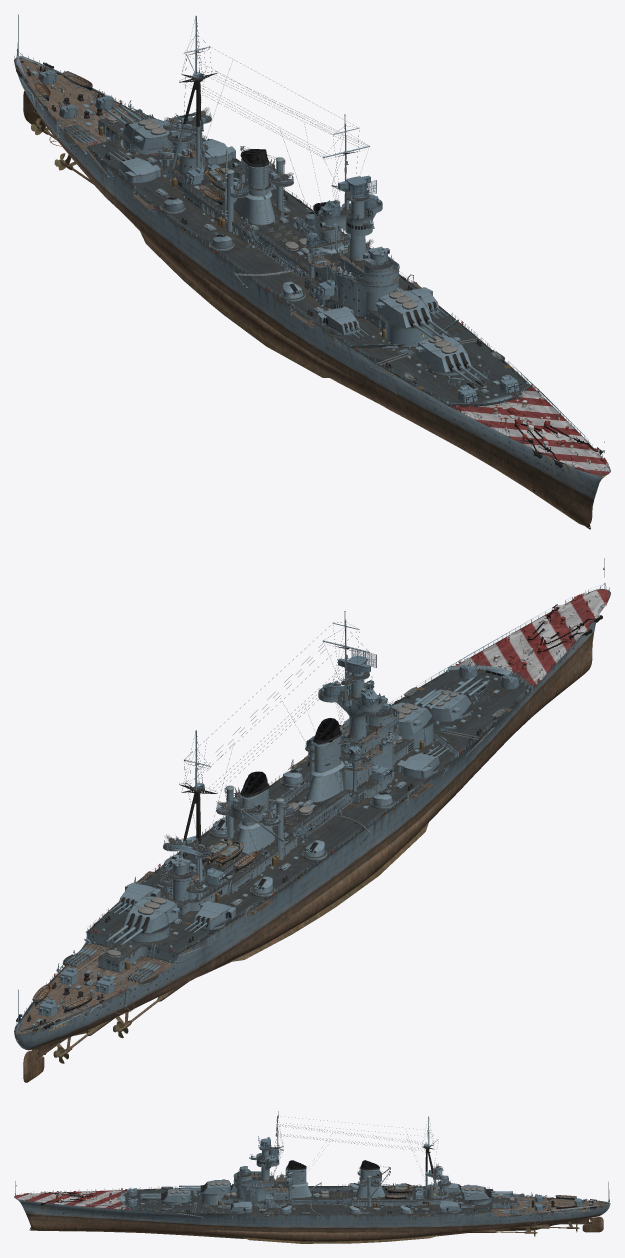
Rendered from napoli-maximum-compressed.glb.
3 views of the same model, one above another, from view 1: azimuth 30°, elevation 25°; view 2: azimuth 150°, elevation 25°; view 3: azimuth 270°, elevation 25° (orthographic). The views are drawn at different scales.
Parts seen in each view (by area): view 1: Object_71, Object_69, Object_67, Object_62, Object_61, Object_75, Object_88, Object_89, Object_72, Object_66, Object_73, Object_76 (+8 smaller); view 2: Object_71, Object_75, Object_69, Object_67, Object_62, Object_61, Object_88, Object_89, Object_66, Object_72, Object_73, Object_15 (+7 smaller); view 3: Object_71, Object_69, Object_75, Object_67, Object_62, Object_61, Object_88, Object_72, Object_89, Object_66, Object_70, Object_68 (+10 smaller).
Part boxes in pixels (x1,y1,x2,y2): Object_71: (385,340,610,529); Object_69: (221,213,473,406); Object_67: (114,81,314,303); Object_62: (246,114,399,329); Object_61: (157,15,293,238); Object_75: (14,14,196,197); Object_88: (104,104,490,385); Object_89: (108,136,449,338); Object_72: (185,49,485,417); Object_66: (108,19,313,251); Object_73: (216,126,477,364); Object_76: (14,54,609,474); Object_71: (390,558,610,778); Object_75: (14,916,210,1082); Object_69: (233,688,473,906); Object_67: (115,785,327,975); Object_62: (272,611,413,845); Object_61: (157,730,293,916); Object_88: (104,676,490,946); Object_89: (108,745,449,933); Object_66: (114,732,329,942); Object_72: (184,625,494,862); Object_73: (217,622,477,853); Object_15: (161,767,394,894); Object_71: (14,1181,191,1235); Object_69: (200,1154,349,1243); Object_75: (466,1182,610,1233); Object_67: (349,1166,463,1243); Object_62: (221,1111,349,1208); Object_61: (355,1116,453,1207); Object_88: (139,1179,512,1203); Object_72: (177,1116,425,1236); Object_89: (217,1183,474,1212); Object_66: (351,1118,453,1214); Object_70: (343,1186,357,1243); Object_68: (458,1192,472,1233).
Size of the model in its own units: 2.16 by 3.62 by 16.23.
60 materials, 59 textured.
